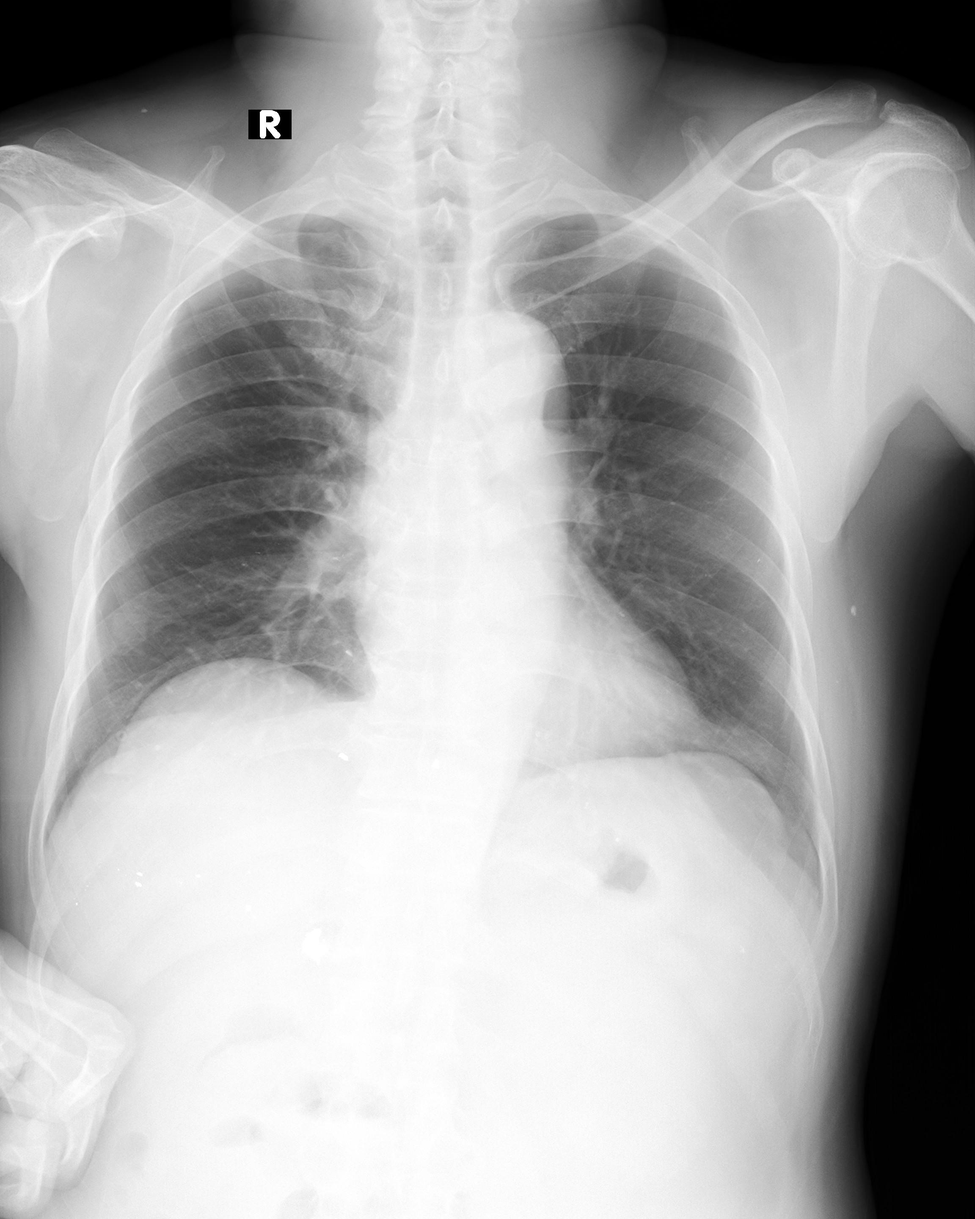Aortic enlargement: (455, 309, 573, 439)
Pleural thickening: (274, 214, 339, 232), (539, 213, 605, 229)
